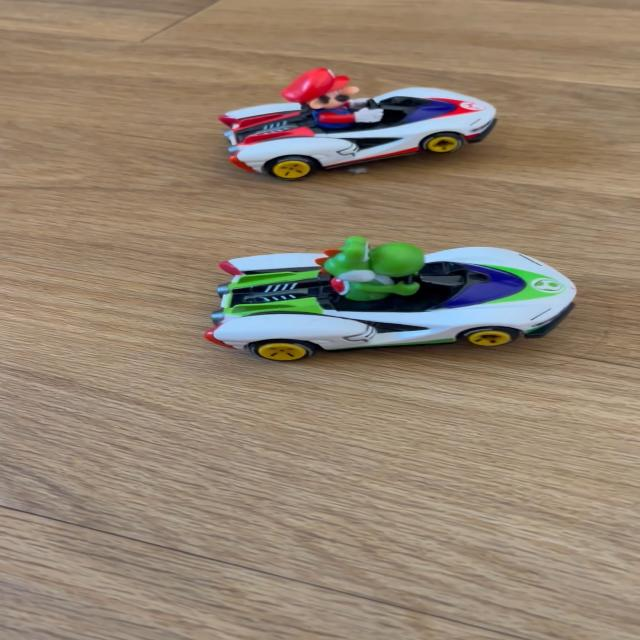mario: (190, 75, 497, 177)
yoshi: (180, 231, 588, 359)
